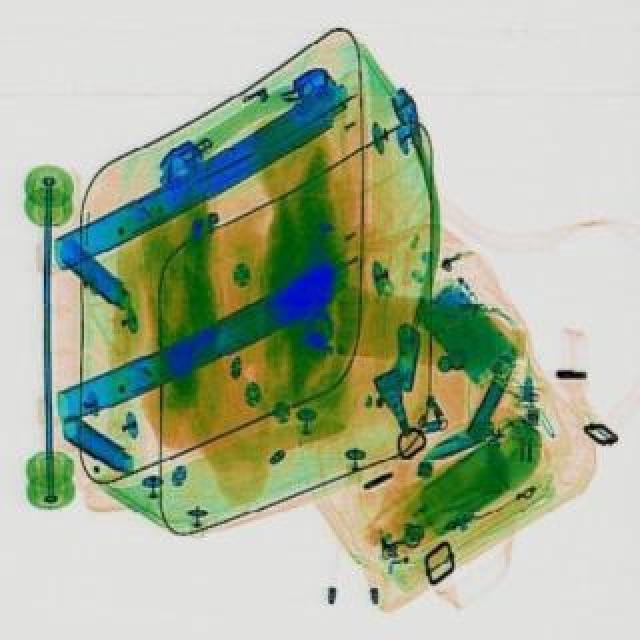knife: (418, 412, 502, 464)
